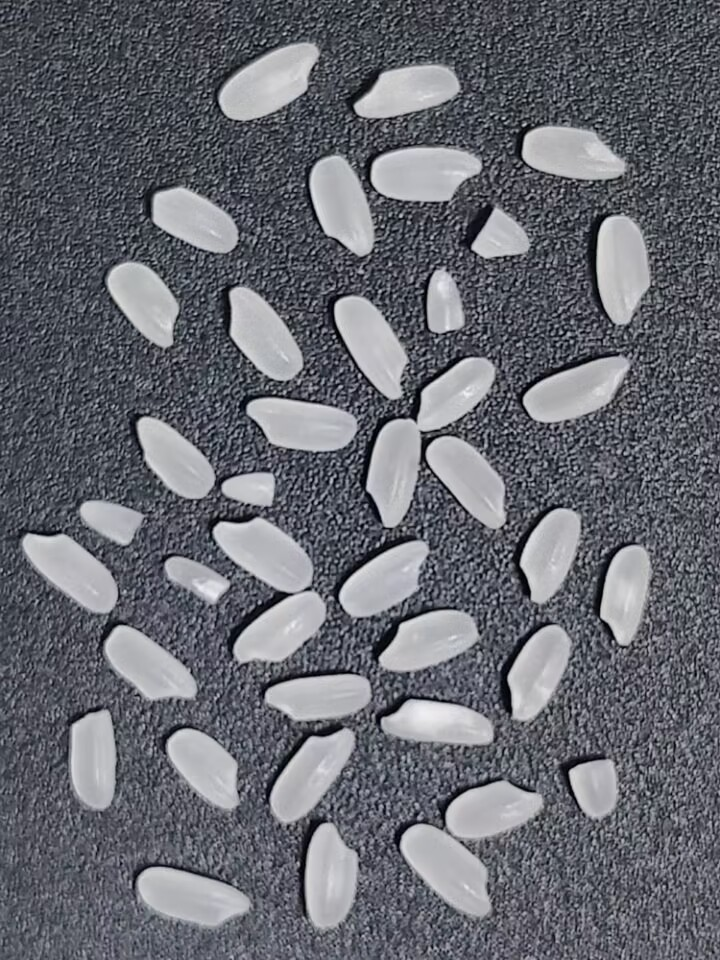broken: (463, 201, 539, 262), (562, 754, 628, 823), (73, 497, 148, 549), (158, 553, 230, 606), (419, 266, 465, 336), (216, 471, 281, 509)
rice: (394, 823, 497, 922), (213, 39, 323, 129), (99, 620, 205, 712), (205, 512, 315, 598), (265, 727, 359, 825), (127, 863, 256, 934), (218, 284, 307, 386), (421, 436, 514, 533), (328, 295, 413, 401), (224, 585, 327, 672), (19, 529, 119, 617), (517, 353, 638, 425), (334, 533, 432, 620), (99, 258, 183, 354), (300, 154, 376, 259), (591, 210, 657, 330), (162, 726, 244, 820), (501, 618, 575, 722), (357, 413, 423, 528), (143, 181, 243, 256), (514, 501, 586, 605), (347, 59, 467, 119), (412, 353, 499, 435), (374, 608, 483, 673), (517, 122, 631, 184), (301, 819, 363, 933), (242, 394, 359, 454), (378, 694, 496, 753), (254, 667, 377, 723), (441, 776, 550, 838), (367, 147, 485, 204), (596, 541, 657, 651), (131, 417, 213, 498), (64, 705, 120, 814)
